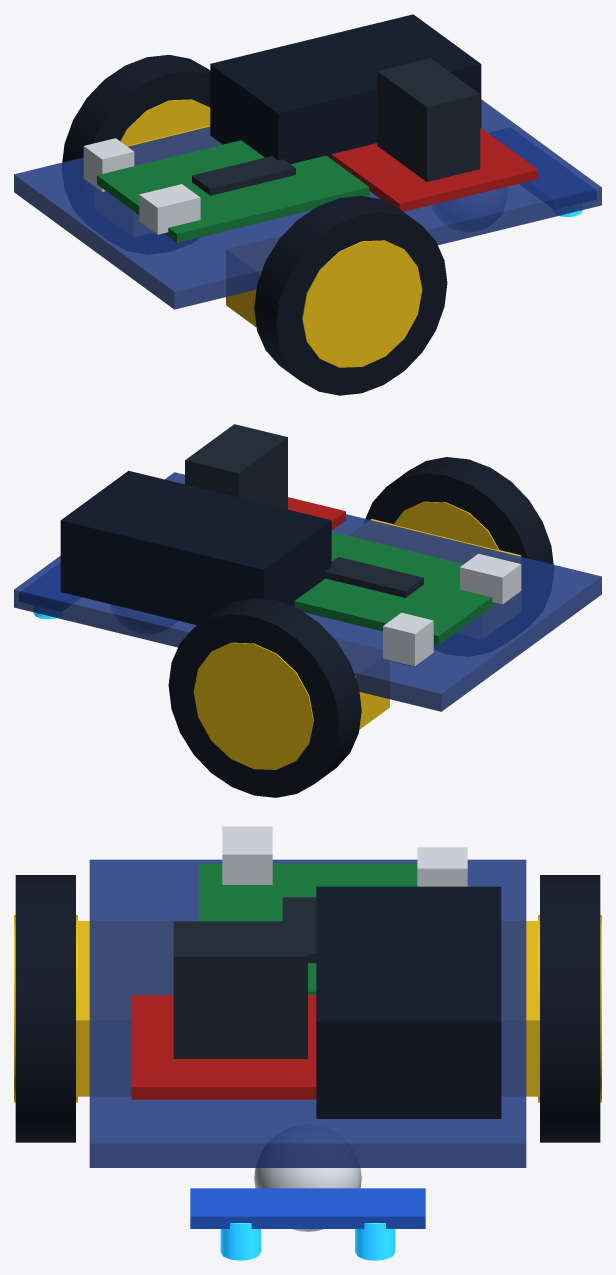
3 renders of one model, top to bottom at view 1: azimuth 30°, elevation 25°; view 2: azimuth 150°, elevation 25°; view 3: azimuth 270°, elevation 25°, orthographic. The views are drawn at different scales.
Visible parts, largest first — view 1: LeftWheel, Chassis, BatteryPack, MotorDriver, ArduinoUno, RightWheel, PowerSwitch, LeftMotor; view 2: BatteryPack, RightWheel, Chassis, ArduinoUno, LeftWheel, MotorDriver, PowerSwitch, RightMotor; view 3: Chassis, BatteryPack, MotorDriver, LeftWheel, RightWheel, IRSensorArray, ArduinoUno, CasterWheel, LeftMotor, RightMotor, PowerSwitch.
Boxes of the visible parts, x1,y1,x2,y2 form: LeftWheel: (254,195,447,395); Chassis: (14,99,601,309); BatteryPack: (210,14,481,163); MotorDriver: (331,58,538,211); ArduinoUno: (97,140,369,242); RightWheel: (62,55,210,162); PowerSwitch: (83,138,134,191); LeftMotor: (226,274,260,327); BatteryPack: (60,470,331,624); RightWheel: (168,598,361,797); Chassis: (14,472,601,711); ArduinoUno: (294,532,521,644); LeftWheel: (365,457,553,564); MotorDriver: (185,424,345,530); PowerSwitch: (383,612,433,666); RightMotor: (355,676,389,729); Chassis: (89,859,526,1167); BatteryPack: (316,886,501,1118); MotorDriver: (131,921,316,1099); LeftWheel: (14,875,77,1142); RightWheel: (538,875,601,1142); IRSensorArray: (190,1188,425,1260); ArduinoUno: (198,826,417,994); CasterWheel: (254,1168,361,1231); LeftMotor: (76,921,89,1096); RightMotor: (526,921,539,1096); PowerSwitch: (417,847,467,886).
Bounding box in the file's own units: 2.16 × 0.955 × 1.75.
